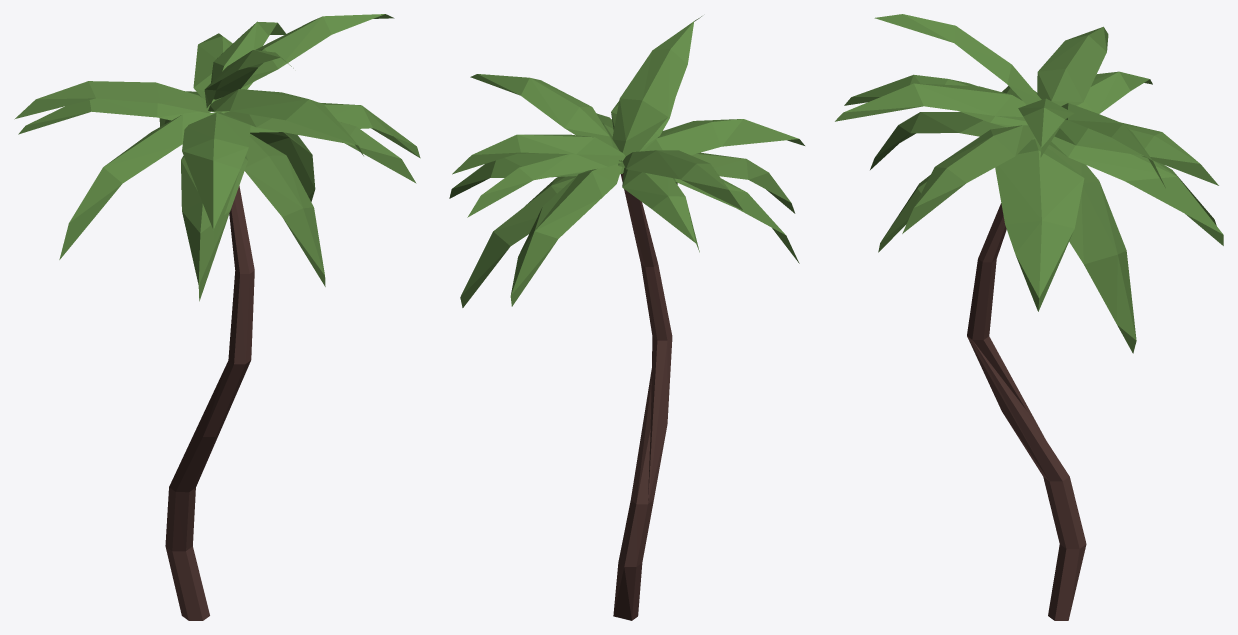
Rendered from palm-curved.glb.
3 renders of one model, left to right at view 1: azimuth 30°, elevation 25°; view 2: azimuth 150°, elevation 25°; view 3: azimuth 270°, elevation 25°, orthographic. The views are drawn at different scales.
Parts seen in each view (by area): view 1: model; view 2: model; view 3: model.
Part boxes in pixels (box(x1,y1,x2,y2)): model: box(14, 14, 420, 620); model: box(449, 16, 804, 620); model: box(835, 14, 1223, 620).
Size of the model in its own units: 0.6434 by 0.9978 by 0.5835.
